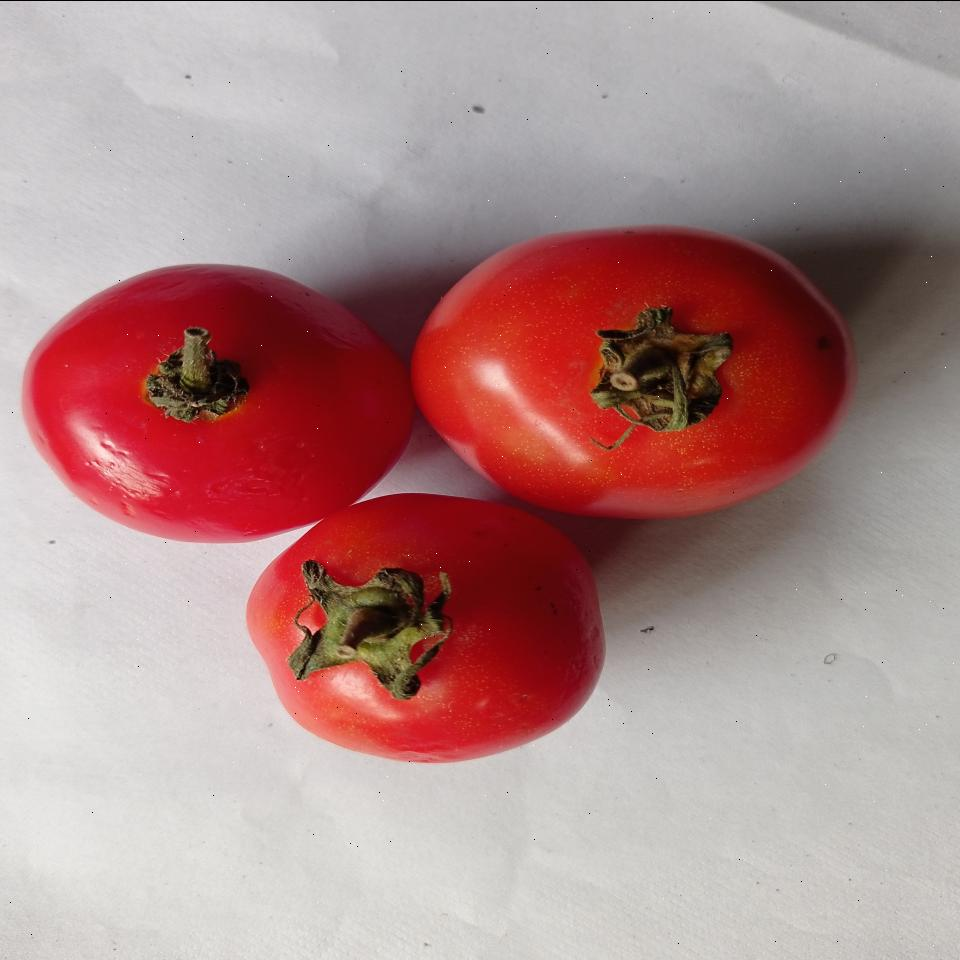Healthy: (404, 208, 865, 530), (13, 257, 420, 546), (237, 486, 615, 766)
